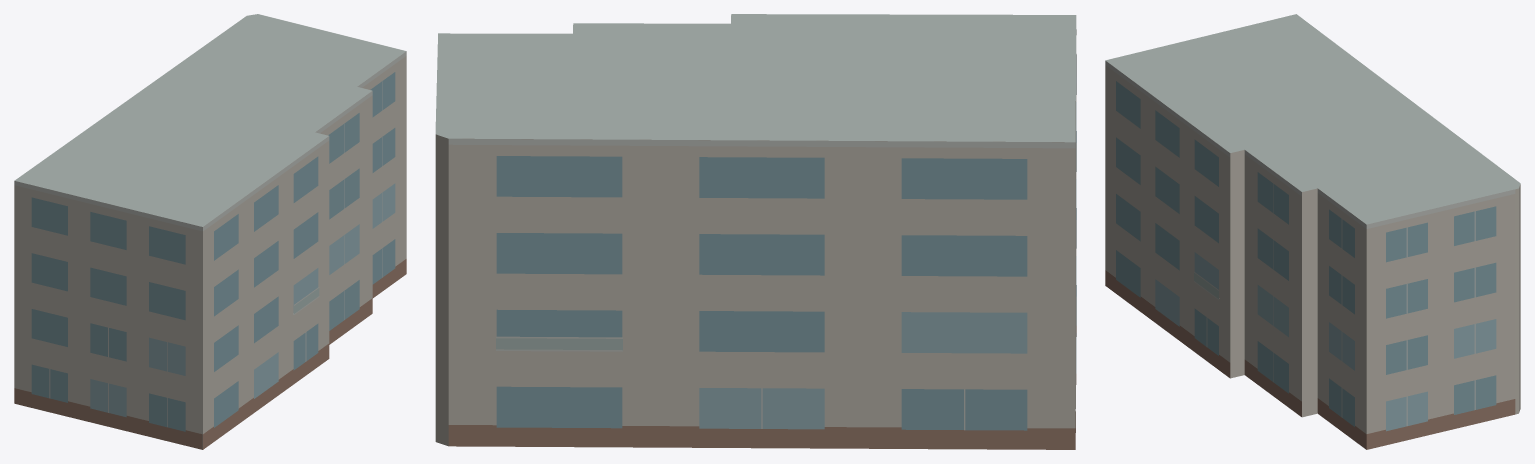
Rendered from survey-upis-32781258.glb.
3 renders of one model, left to right at view 1: azimuth 30°, elevation 25°; view 2: azimuth 150°, elevation 25°; view 3: azimuth 270°, elevation 25°, orthographic. The views are drawn at different scales.
Parts seen in each view (by area): view 1: survey-upis-32781258.tmp; view 2: survey-upis-32781258.tmp; view 3: survey-upis-32781258.tmp.
Boxes of the visible parts, left/top/right/bottom form: survey-upis-32781258.tmp: left=14, top=14, right=406, bottom=449; survey-upis-32781258.tmp: left=435, top=14, right=1076, bottom=449; survey-upis-32781258.tmp: left=1105, top=14, right=1520, bottom=449.
Bounding box in the file's own units: 24.47 × 12.2 × 20.4.
